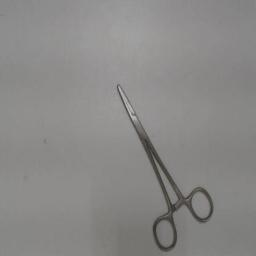Mayo Needle Holder: (112, 76, 220, 254)
